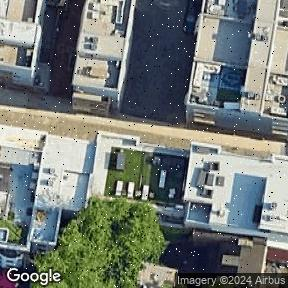vegetation: (35, 197, 165, 288)
